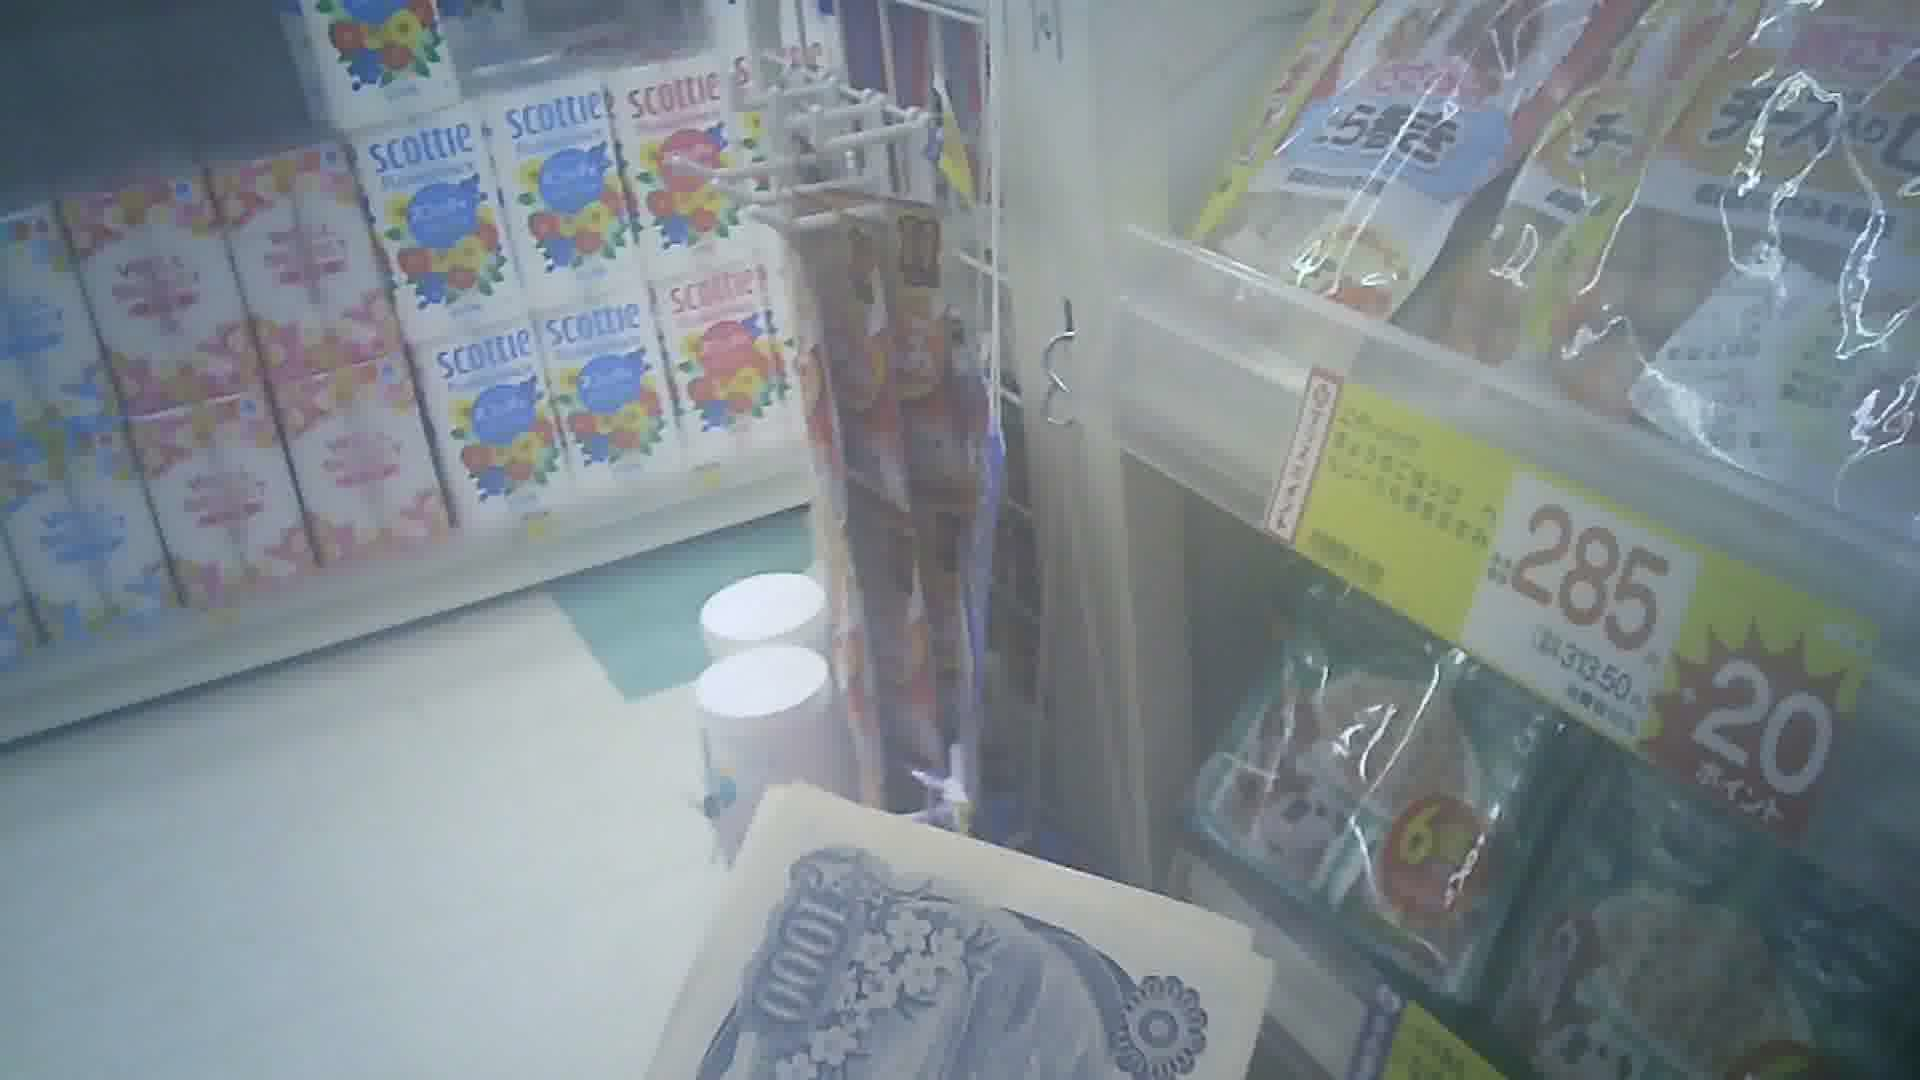1,000 Yen: (651, 779, 1273, 1073)
